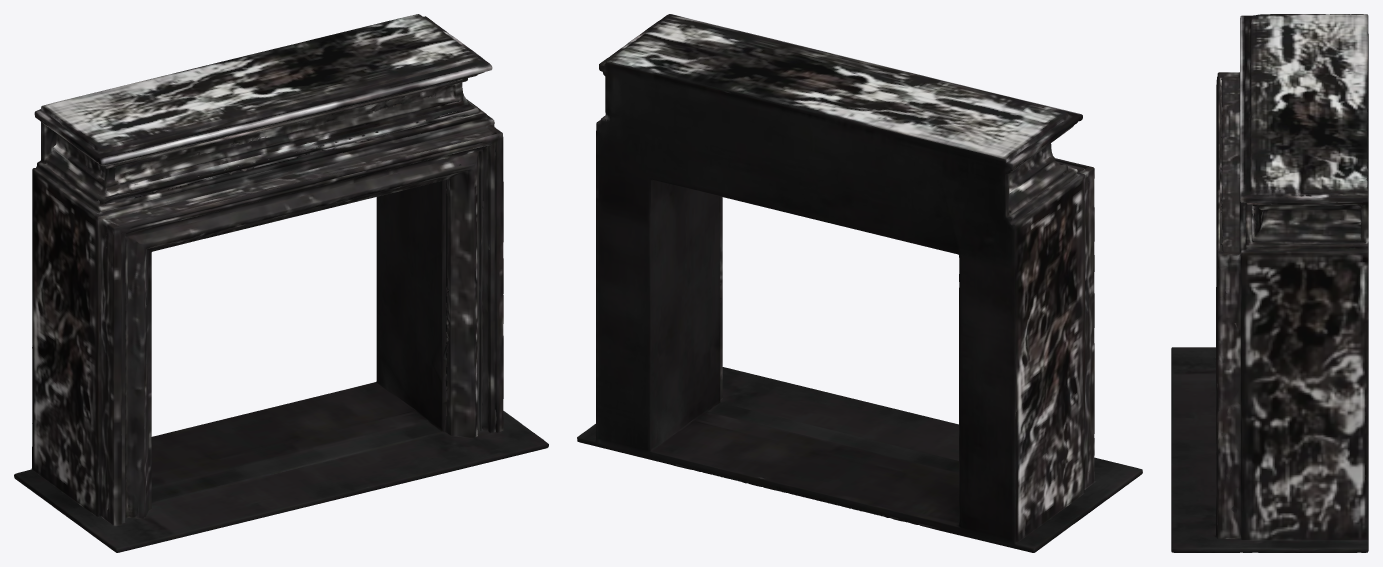
The model's file is black-marble-mantel.glb.
The picture shows the model from 3 angles, left to right: view 1: azimuth 30°, elevation 25°; view 2: azimuth 150°, elevation 25°; view 3: azimuth 270°, elevation 25°; orthographic projection. The views are drawn at different scales.
Parts seen in each view (by area): view 1: world; view 2: world; view 3: world.
Part boxes in pixels (<box>): world: <box>14,14,548,552</box>; world: <box>577,14,1142,552</box>; world: <box>1171,14,1368,552</box>.
Size of the model in its own units: 1 by 0.8135 by 0.4146.
1 material, 1 textured.
